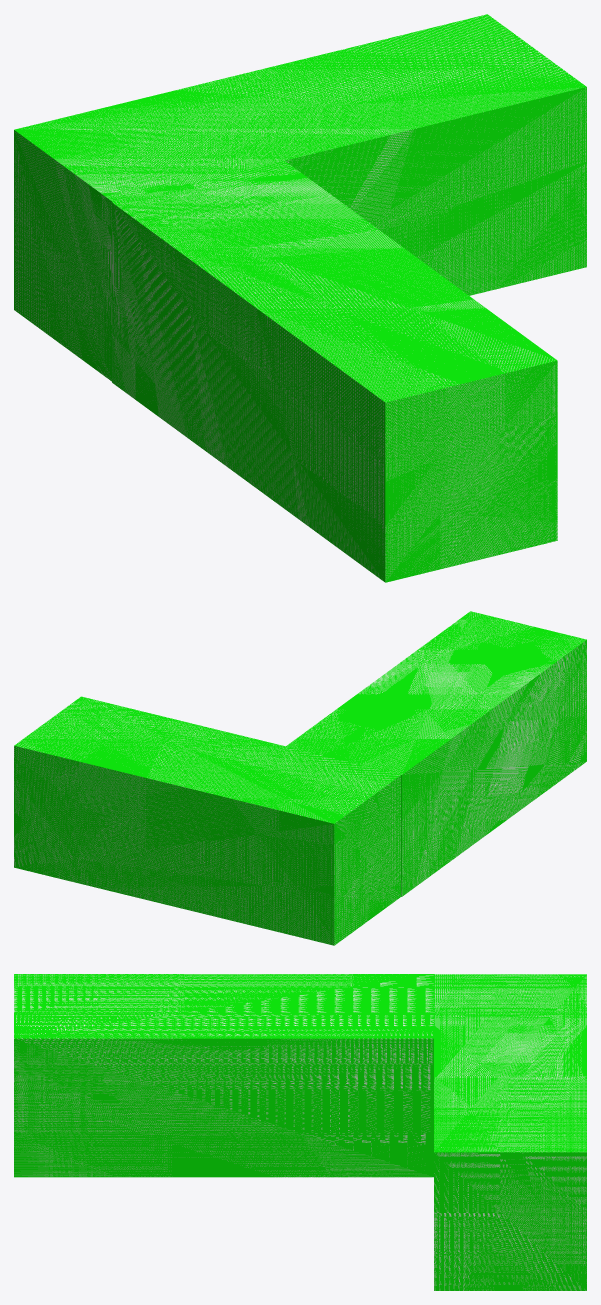
File: Abstract_robot_green.dae
3 renders of one model, top to bottom at view 1: azimuth 30°, elevation 25°; view 2: azimuth 150°, elevation 25°; view 3: azimuth 270°, elevation 25°, orthographic. The views are drawn at different scales.
Visible parts, largest first — view 1: SketchUp (×2); view 2: SketchUp (×2); view 3: SketchUp (×2).
Part boxes in pixels (x1,y1,x2,y2): SketchUp (×2): [14, 14, 586, 582]; SketchUp (×2): [14, 611, 586, 945]; SketchUp (×2): [14, 974, 586, 1290].
Bounding box in the file's own units: 52.08 × 70.79 × 18.9.
